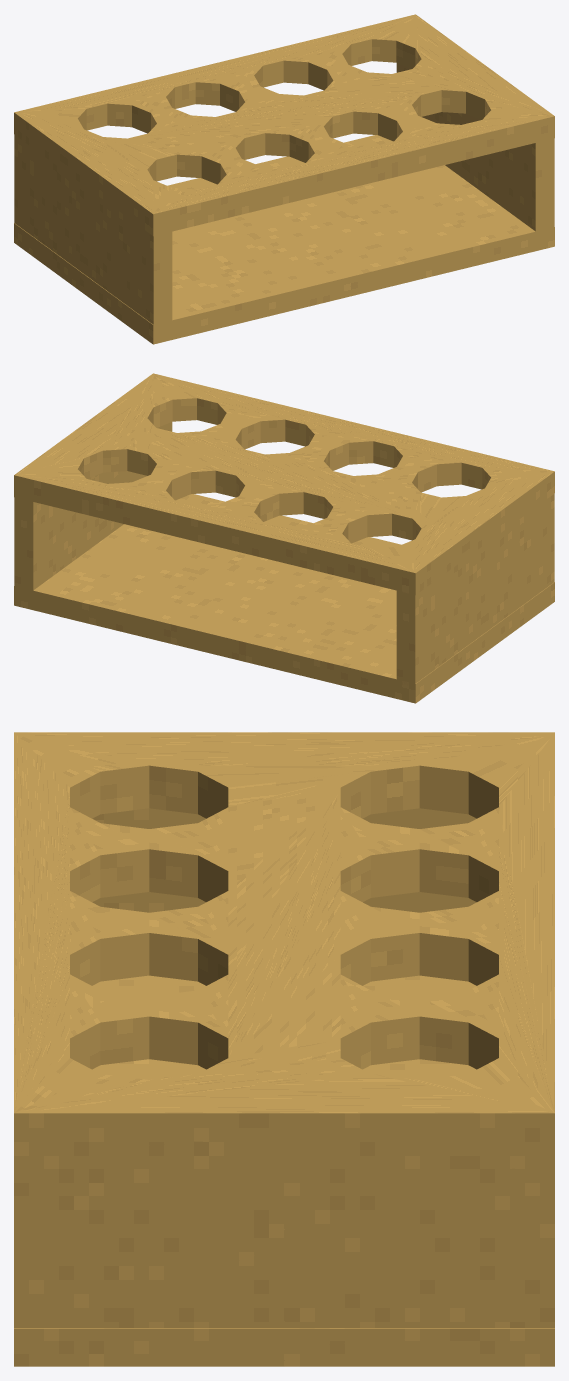
The model's file is rack_test_tube.glb.
The picture shows the model from 3 angles, top to bottom: view 1: azimuth 30°, elevation 25°; view 2: azimuth 150°, elevation 25°; view 3: azimuth 270°, elevation 25°; orthographic projection. The views are drawn at different scales.
Visible parts, largest first — view 1: block_rack deck with socket holes, block_rack base, block_rack end (×2); view 2: block_rack deck with socket holes, block_rack base, block_rack end (×2); view 3: block_rack deck with socket holes, block_rack end (×2), block_rack base.
Part boxes in pixels (bbox=[...]): block_rack deck with socket holes: bbox=[14, 14, 554, 236]; block_rack base: bbox=[14, 135, 554, 344]; block_rack end (×2): bbox=[14, 63, 554, 327]; block_rack deck with socket holes: bbox=[14, 373, 554, 595]; block_rack base: bbox=[14, 494, 554, 703]; block_rack end (×2): bbox=[14, 422, 554, 686]; block_rack deck with socket holes: bbox=[14, 732, 554, 1155]; block_rack end (×2): bbox=[14, 808, 554, 1327]; block_rack base: bbox=[14, 975, 554, 1366].
Bounding box in the file's own units: 0.1184 × 0.0367 × 0.0711.
Materials: 1 (1 with a texture image).
